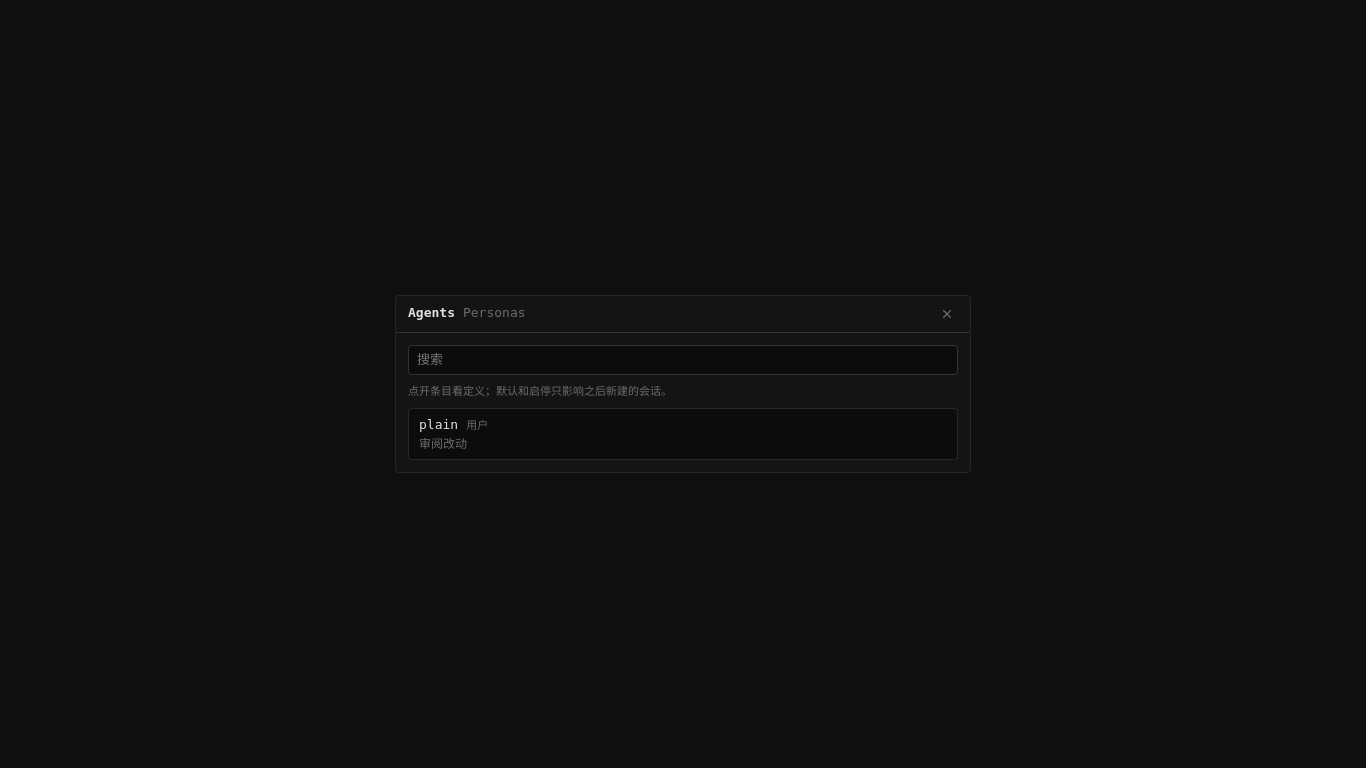
AgentsModal 列表行 › 没声明 tools 的 agent 说明继承默认工具集，不当成「没有工具」
This screenshot has width=1366, height=768.
Expected: the text "plain" is shown, left=419, top=415, right=458, bottom=435
Click the button "plain 用户 审阅改动" at [439, 424], box left=408, top=408, right=958, bottom=460
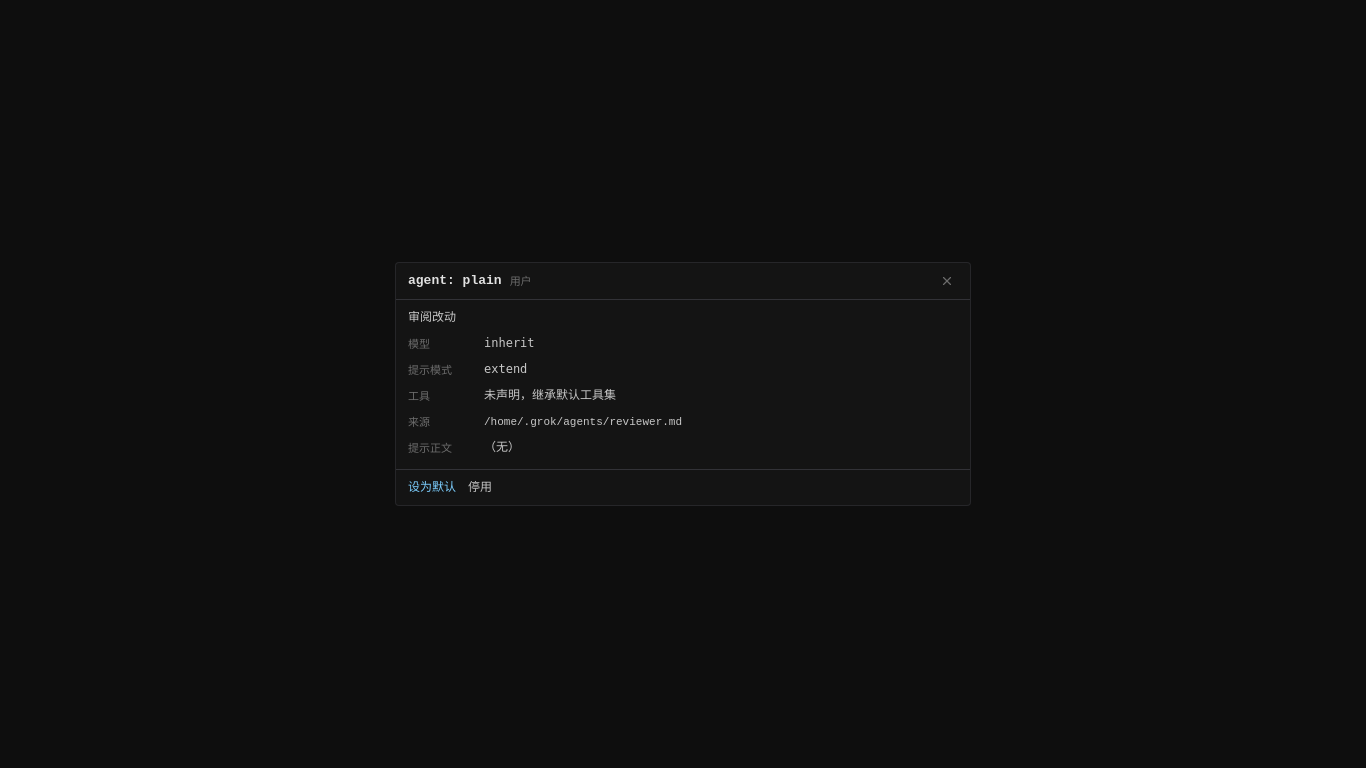
Now the dialog with test id "agent-detail" shows "未声明，继承默认工具集", box left=484, top=388, right=616, bottom=402
